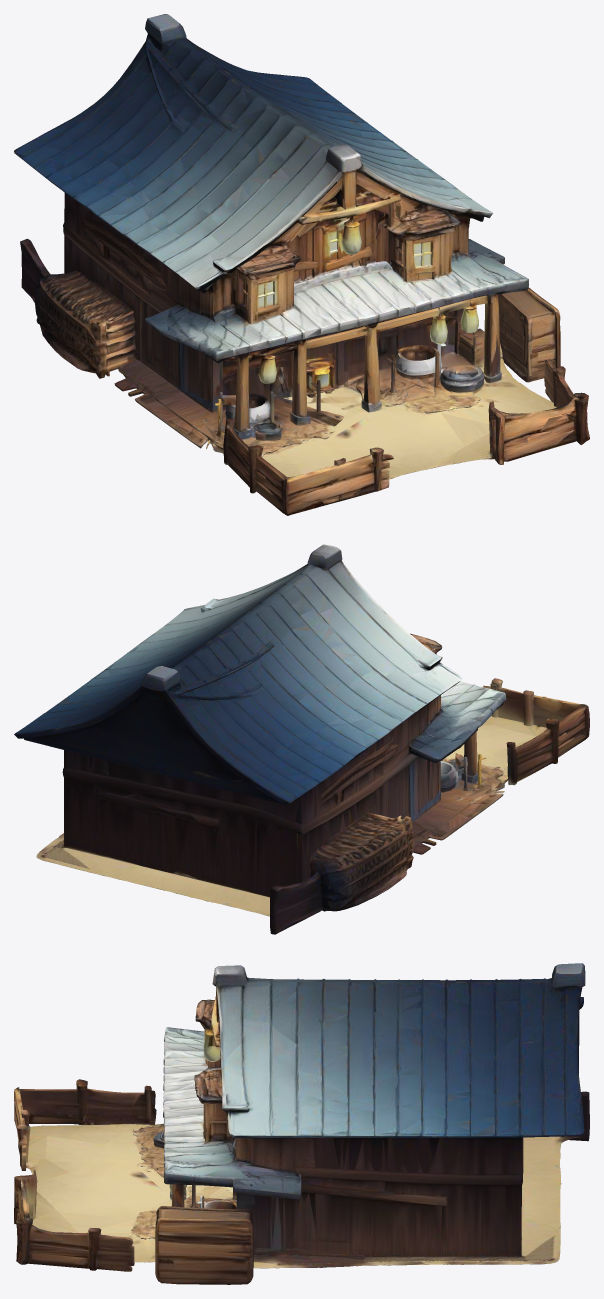
Rendered from bld_stable.glb.
3 views of the same model, one above another, from view 1: azimuth 30°, elevation 25°; view 2: azimuth 150°, elevation 25°; view 3: azimuth 270°, elevation 25° (orthographic). The views are drawn at different scales.
Visible parts, largest first — view 1: node_0; view 2: node_0; view 3: node_0.
Part boxes in pixels (bbox=[...]): node_0: bbox=[14, 14, 589, 515]; node_0: bbox=[14, 544, 589, 934]; node_0: bbox=[14, 963, 589, 1284].
Bounding box in the file's own units: 3.05 × 2 × 4.46.
Materials: 1 (1 with a texture image).
